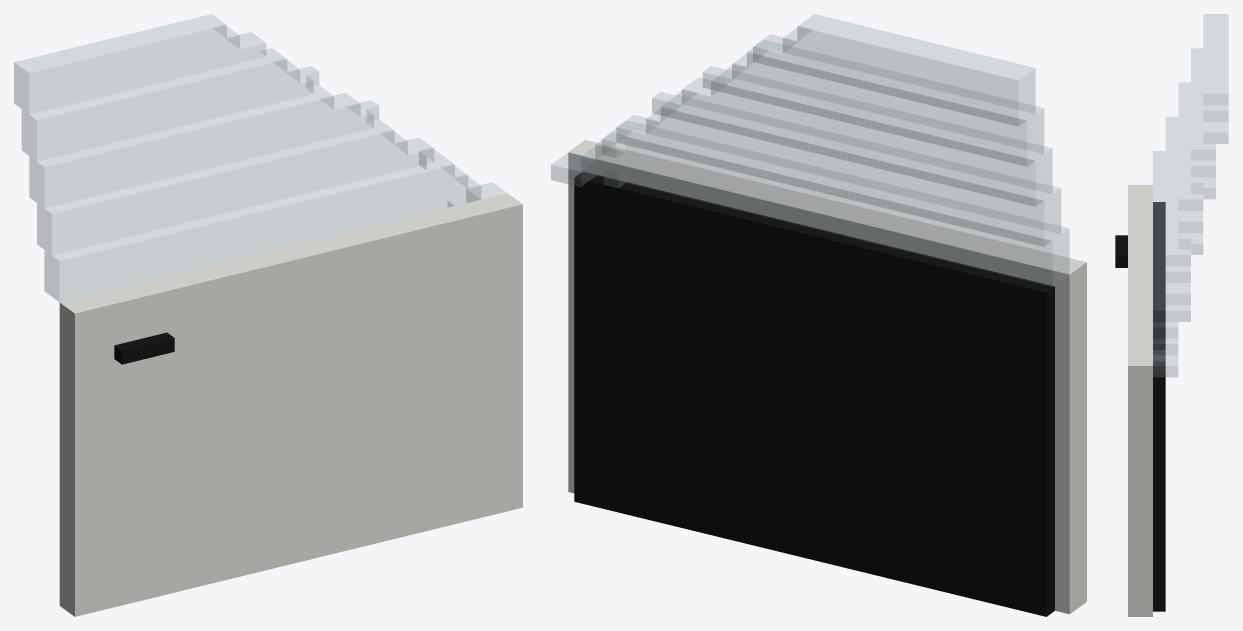
Rendered from electric_crossover_front_door.glb.
3 views of the same model, side by side, from view 1: azimuth 30°, elevation 25°; view 2: azimuth 150°, elevation 25°; view 3: azimuth 270°, elevation 25° (orthographic). The views are drawn at different scales.
Parts seen in each view (by area): view 1: body:compound; view 2: body:compound; view 3: body:compound.
Boxes of the visible parts, left/top/right/bottom form: body:compound: left=14, top=14, right=522, bottom=616; body:compound: left=551, top=14, right=1086, bottom=616; body:compound: left=1115, top=14, right=1228, bottom=616.
Bounding box in the file's own units: 1.06 × 1.16 × 0.2812.
